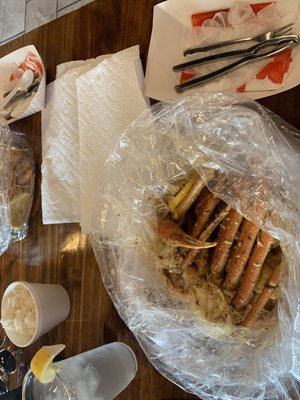sandwich: (175, 21, 299, 93)
